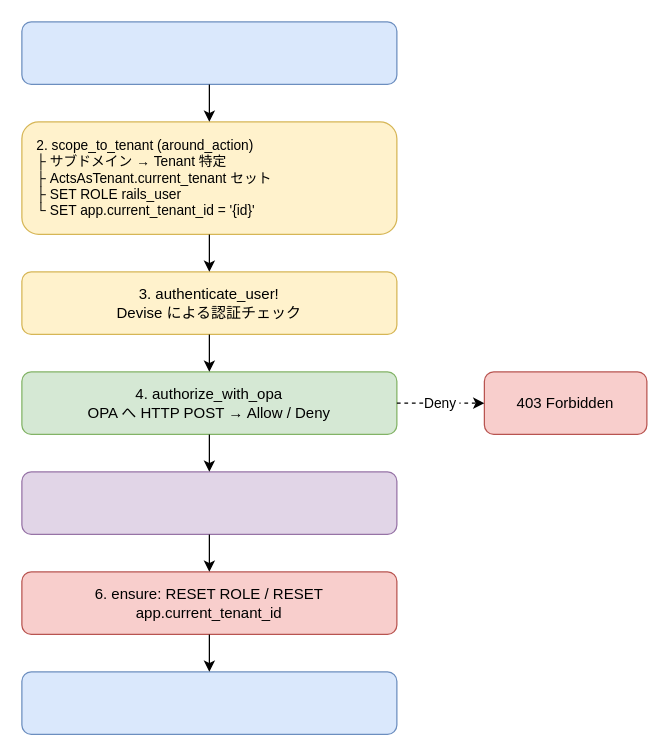
The diagram is 669 pixels wide and 756 high, and some of its shapes have lost their labels. The centre of each missing label's shape, as x and y in pixels:
"1. ブラウザからリクエスト company-a.localhost:8080/projects" goes at pixel 209 52.
"5. コントローラーアクション実行 acts_as_tenant + RLS でスコープ済みクエリ" goes at pixel 209 502.
"7. レスポンス返却 (HTML / Turbo Frame)" goes at pixel 209 702.
